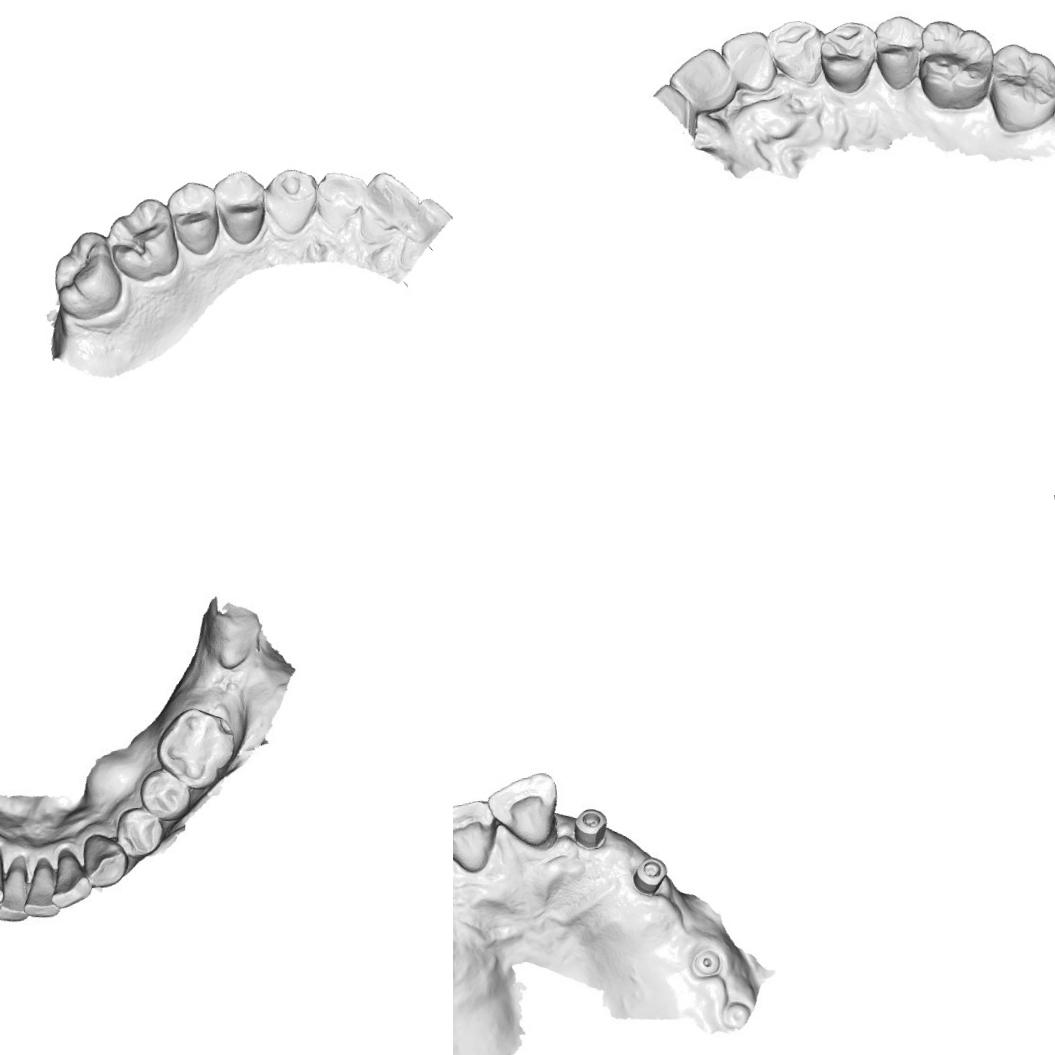canine: (260, 164, 320, 238), (765, 18, 824, 93), (80, 831, 128, 890)
implant: (568, 803, 610, 853), (632, 852, 671, 898), (689, 946, 723, 979)
incisor: (488, 770, 562, 852), (670, 46, 738, 118), (356, 167, 425, 232), (310, 165, 370, 238), (718, 25, 778, 94), (453, 797, 502, 876), (47, 853, 93, 910), (20, 862, 60, 922), (0, 864, 28, 925)
molar: (152, 702, 243, 795), (46, 226, 126, 325), (914, 16, 997, 110), (101, 194, 183, 286), (976, 41, 1055, 131)
premolar: (162, 176, 224, 260), (211, 166, 273, 248), (871, 14, 931, 94), (816, 20, 876, 91), (136, 764, 194, 824), (112, 802, 166, 860)
